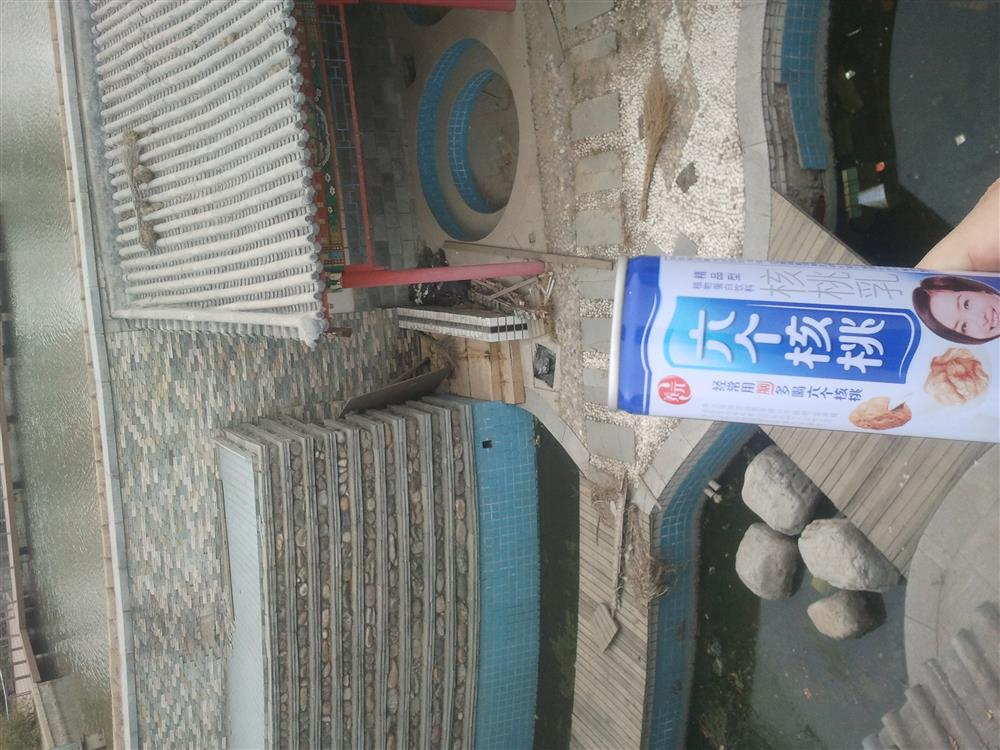Six_walnut: (600, 244, 994, 446)
